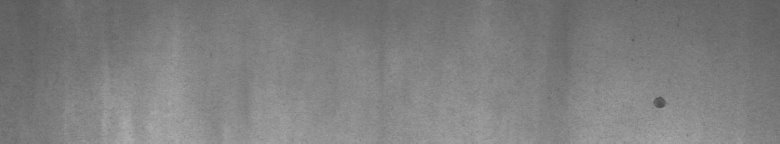fi: (651, 91, 669, 116)
